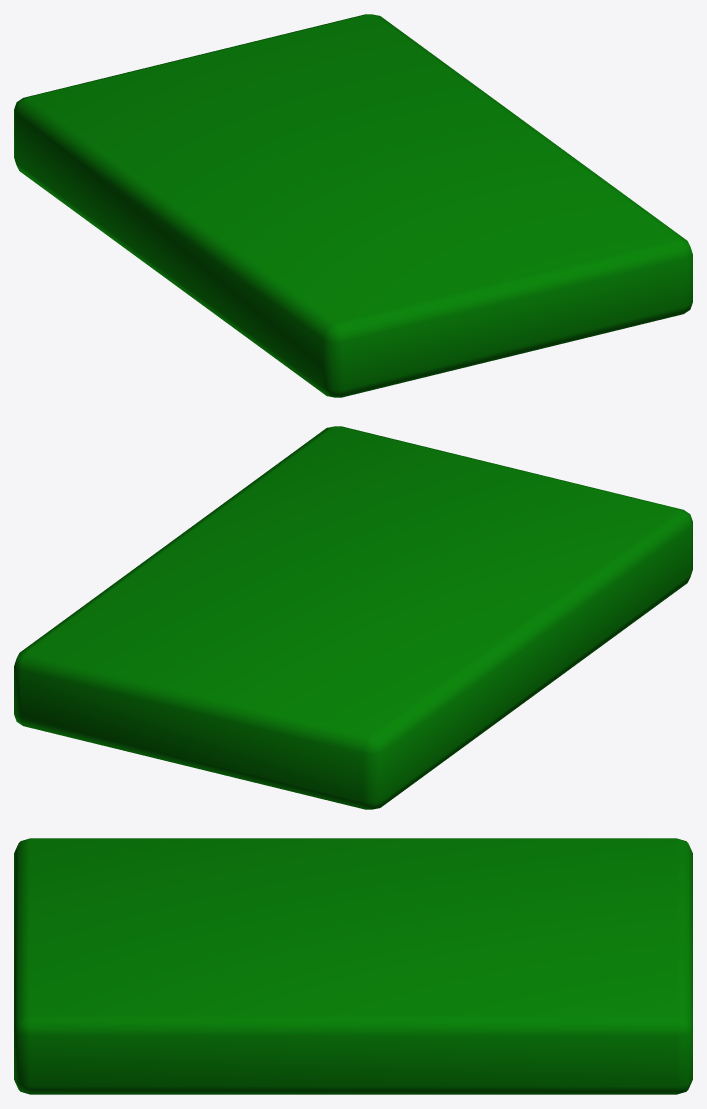
The picture shows the model from 3 angles, top to bottom: view 1: azimuth 30°, elevation 25°; view 2: azimuth 150°, elevation 25°; view 3: azimuth 270°, elevation 25°; orthographic projection. The views are drawn at different scales.
Visible parts, largest first — view 1: Pi; view 2: Pi; view 3: Pi.
Part boxes in pixels (x1,y1,x2,y2): Pi: (14,14,692,397); Pi: (14,426,692,809); Pi: (14,838,692,1094).
Size of the model in its own units: 5.65 by 1.1 by 8.56.
